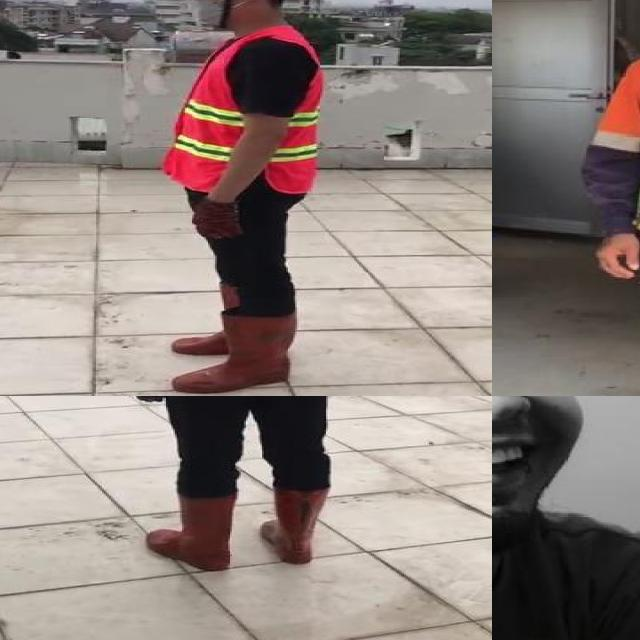boots: (170, 311, 300, 393), (170, 280, 285, 354), (148, 492, 235, 573), (260, 487, 330, 564)
face_mask: (182, 0, 235, 28)
face_nomask: (492, 396, 578, 499)
hand_glove: (190, 199, 242, 239)
hand_noglove: (586, 225, 640, 285)
person: (129, 0, 344, 396), (122, 396, 389, 574), (578, 0, 640, 396)
vest: (165, 28, 324, 193)
